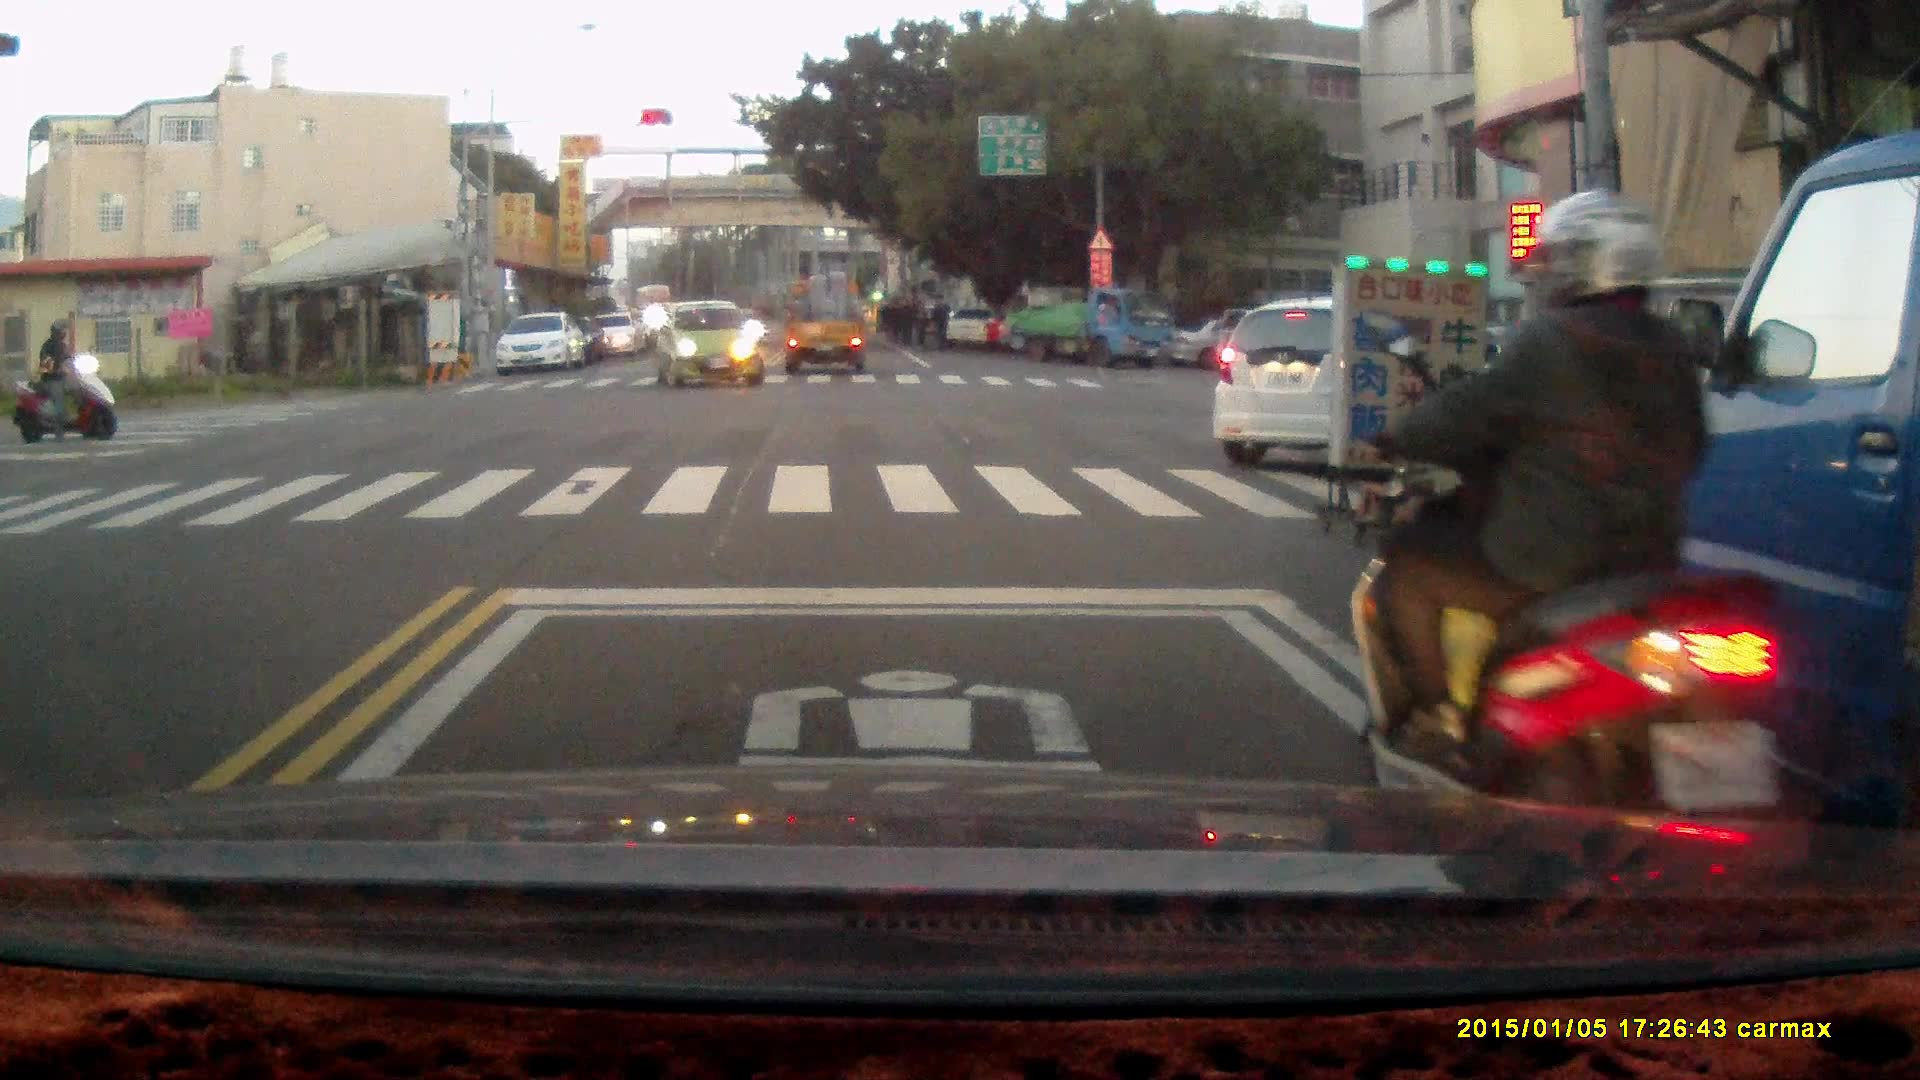rider: (1347, 186, 1789, 892), (10, 316, 119, 440)
vehicle: (1600, 132, 1920, 918), (1208, 294, 1520, 466), (1002, 284, 1175, 367), (661, 296, 770, 392), (786, 269, 871, 381), (498, 313, 587, 377), (592, 311, 642, 360)
